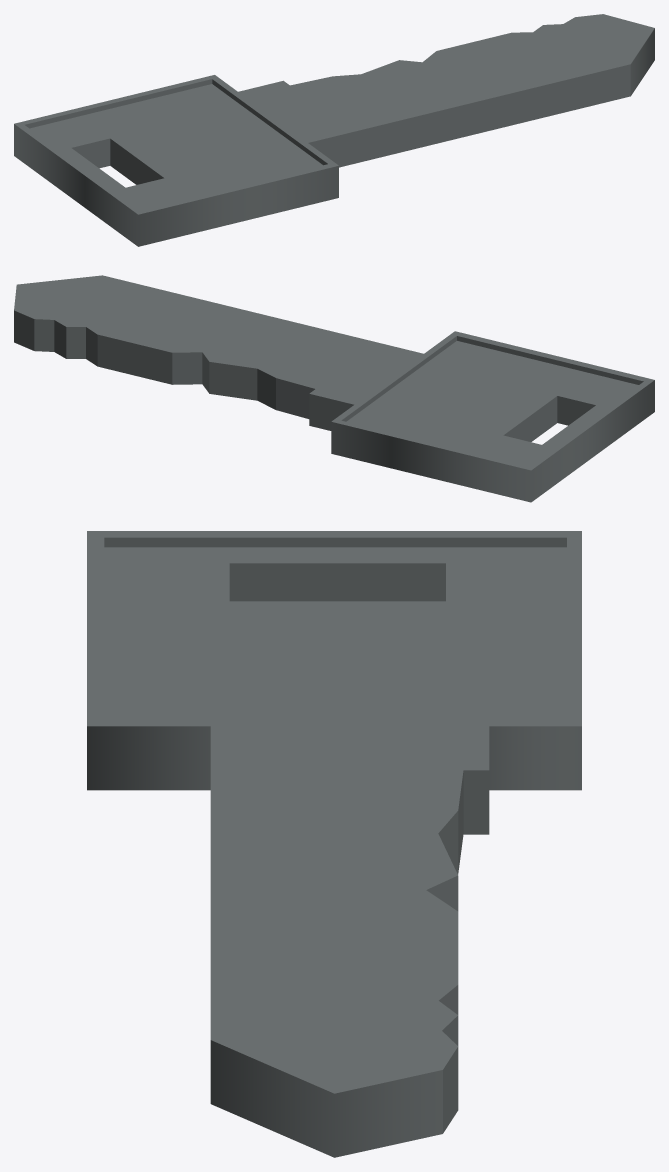
Rendered from key2.fbx.
3 renders of one model, top to bottom at view 1: azimuth 30°, elevation 25°; view 2: azimuth 150°, elevation 25°; view 3: azimuth 270°, elevation 25°, orthographic. The views are drawn at different scales.
Visible parts, largest first — view 1: key2; view 2: key2; view 3: key2.
Part boxes in pixels (x1,y1,x2,y2): key2: (14,14,654,246); key2: (14,275,654,502); key2: (87,531,581,1157).
Size of the model in its own units: 0.0941 by 0.035 by 0.005.
